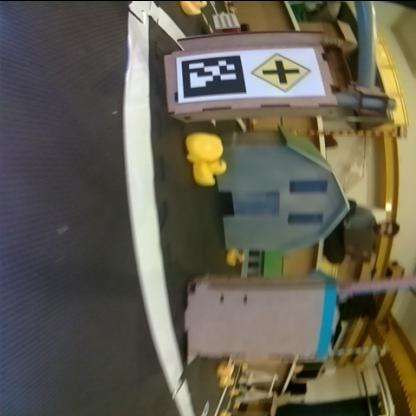Duckie: (189, 131, 225, 160), (195, 160, 229, 184)
Intersection sign: (252, 52, 312, 90)
QR code: (181, 54, 246, 96)
